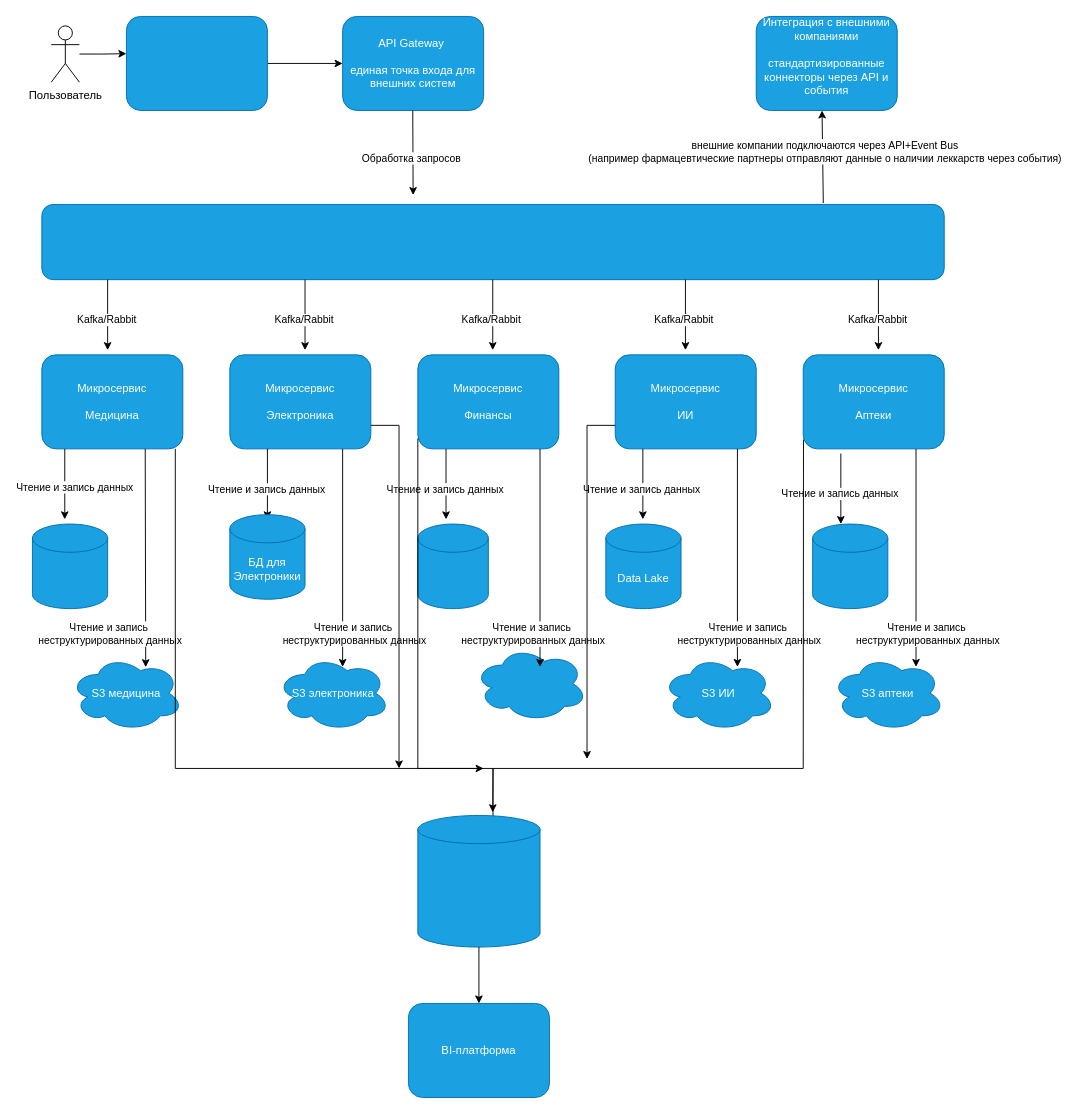
Image size: 1078x1114. Some labels were removed from this diagram. The centre of each missing label's shape, as x and y in pixels:
Data Mart Portal портал самообслуживания для BI аналитики: the point at 196,63
S3 финансы: the point at 530,683
БД для Аптек: the point at 850,566
БД для Медицины: the point at 69,566
БД для Финансы: the point at 452,566
Новый DWH: the point at 478,881
Шина событий Kafka или Rabbit: the point at 492,242
